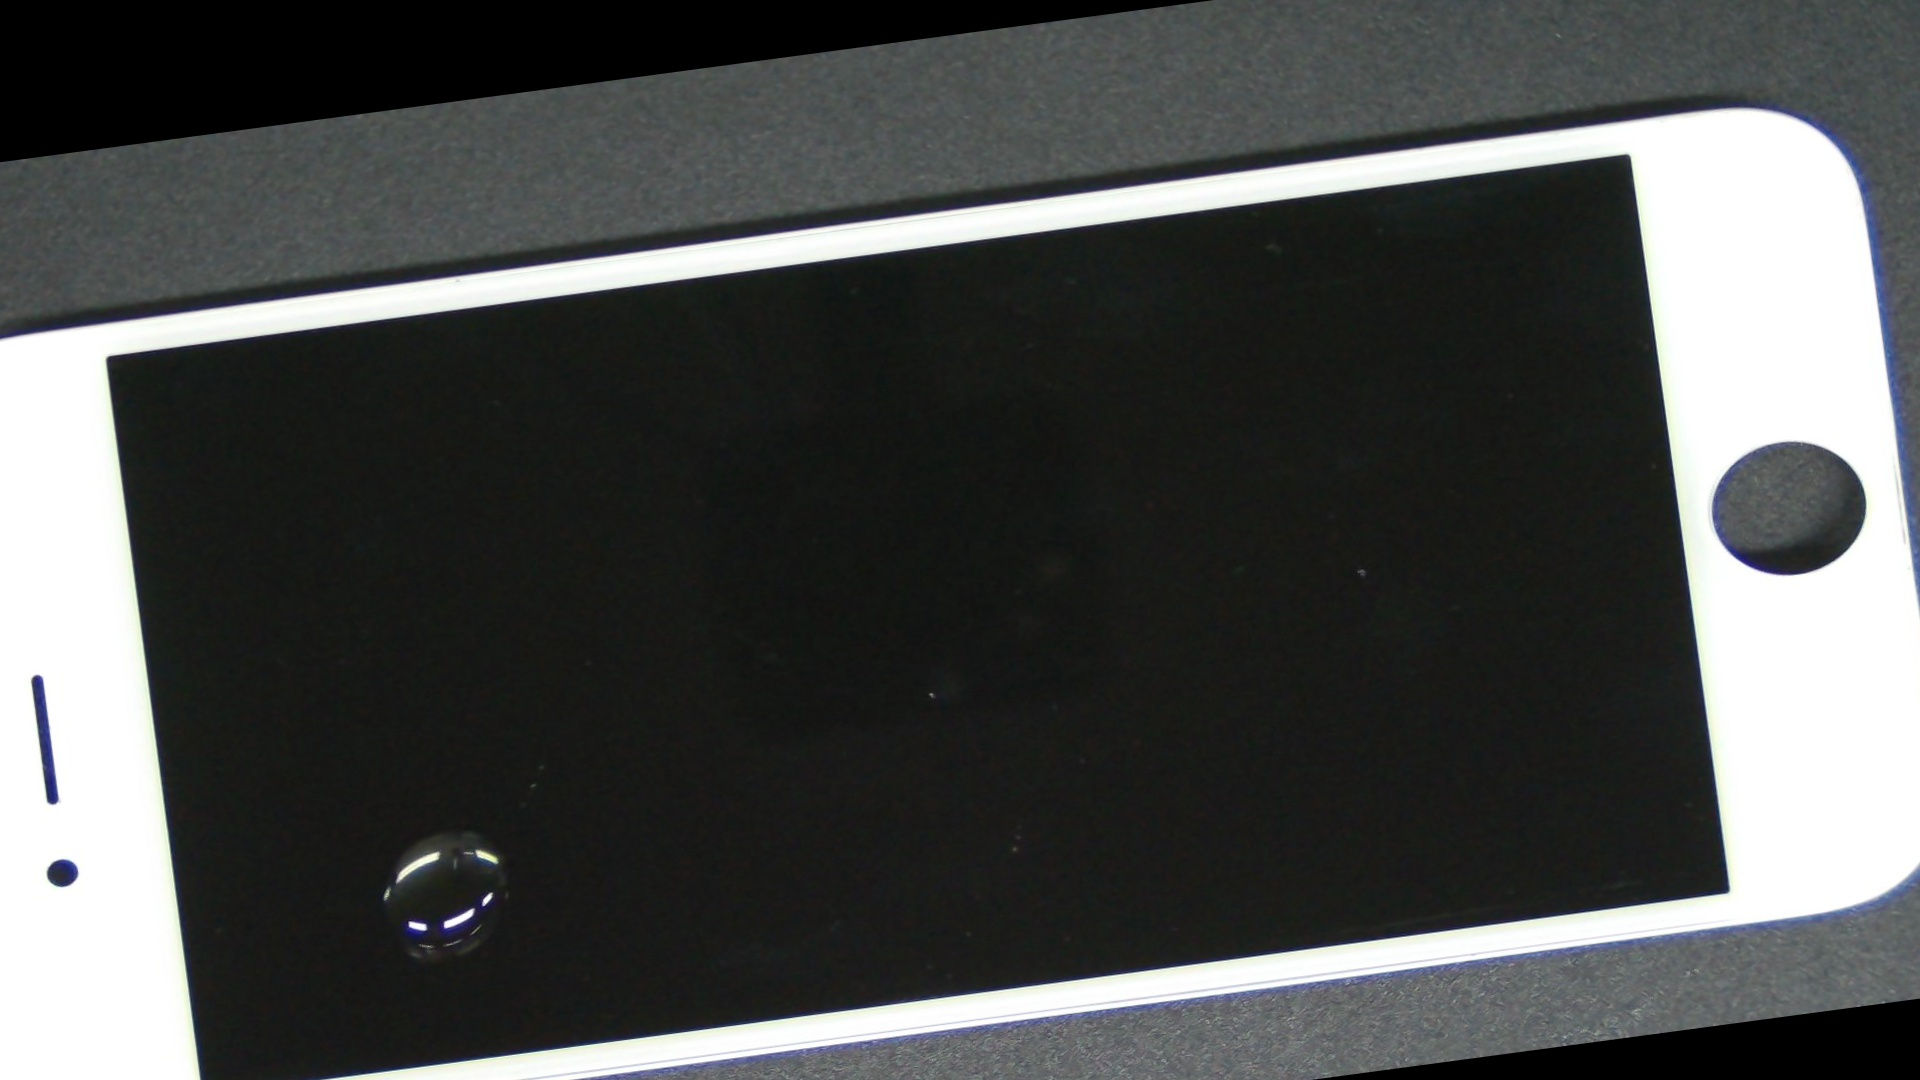oil: (71, 430, 820, 1080)
